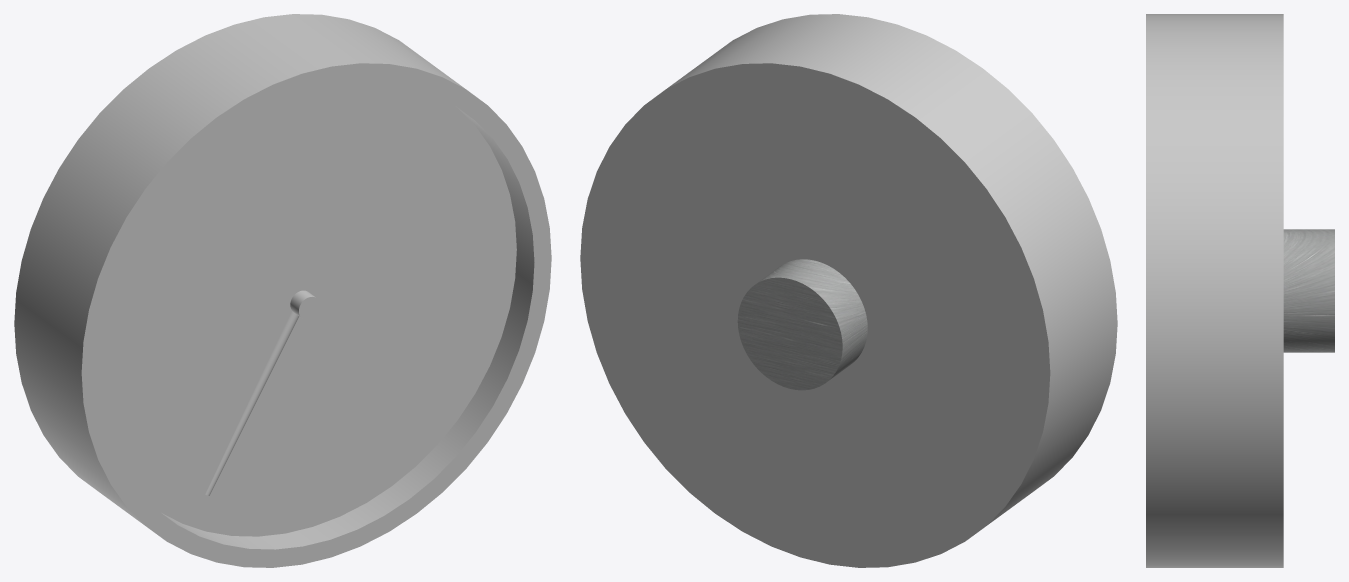
The model's file is Barometr.fbx.
3 renders of one model, left to right at view 1: azimuth 30°, elevation 25°; view 2: azimuth 150°, elevation 25°; view 3: azimuth 270°, elevation 25°, orthographic. The views are drawn at different scales.
Visible parts, largest first — view 1: monometrShkala, osnovaMonometr, strelkaMonometr; view 2: osnovaMonometr; view 3: osnovaMonometr.
Part boxes in pixels (x1,y1,x2,y2): monometrShkala: (99, 81, 516, 536); osnovaMonometr: (14, 14, 551, 567); strelkaMonometr: (205, 290, 320, 495); osnovaMonometr: (580, 14, 1117, 567); osnovaMonometr: (1146, 14, 1334, 567).
Size of the model in its own units: 82 by 81.84 by 27.93.
